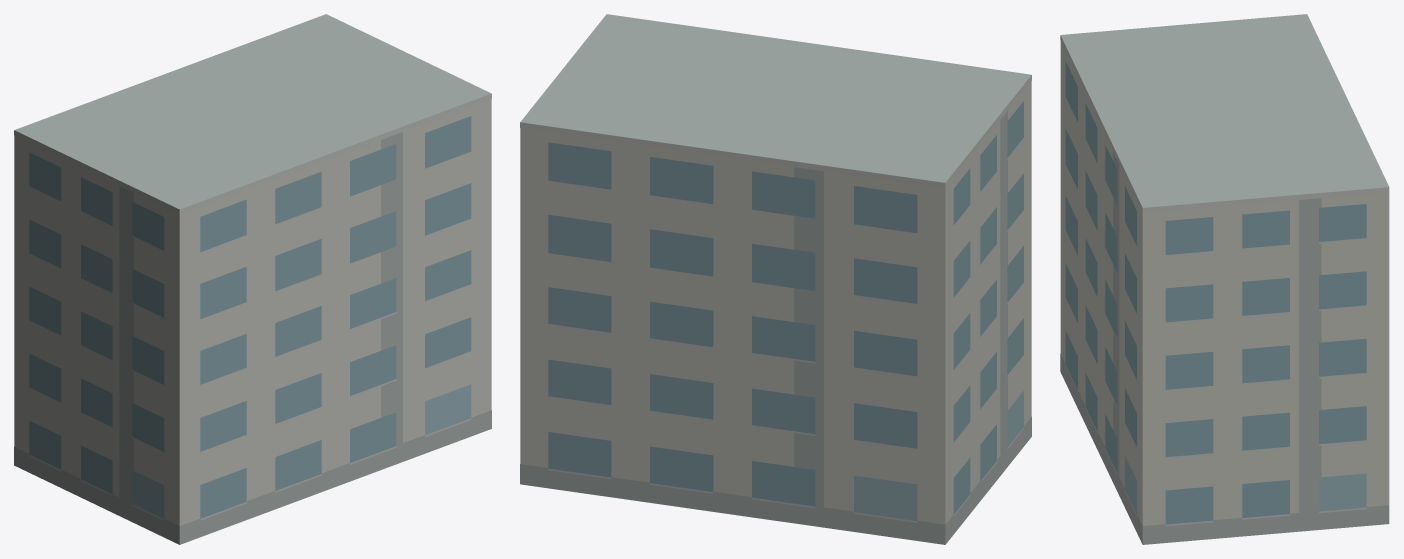
File: residential-e112b870-e084-4e31-89c2-a50757b5391e.glb
The picture shows the model from 3 angles, left to right: view 1: azimuth 30°, elevation 25°; view 2: azimuth 150°, elevation 25°; view 3: azimuth 270°, elevation 25°; orthographic projection. The views are drawn at different scales.
Parts seen in each view (by area): view 1: residential-e112b870-e084-4e31-89c2-a50757b5391e.tmp; view 2: residential-e112b870-e084-4e31-89c2-a50757b5391e.tmp; view 3: residential-e112b870-e084-4e31-89c2-a50757b5391e.tmp.
Part boxes in pixels (x1,y1,x2,y2): residential-e112b870-e084-4e31-89c2-a50757b5391e.tmp: (14, 14, 491, 544); residential-e112b870-e084-4e31-89c2-a50757b5391e.tmp: (520, 14, 1031, 544); residential-e112b870-e084-4e31-89c2-a50757b5391e.tmp: (1060, 14, 1389, 544).
Bounding box in the file's own units: 18.84 × 15.25 × 13.5.
